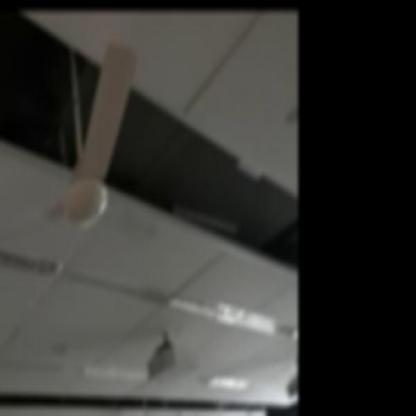light_off: (141, 266, 252, 333), (0, 204, 69, 294), (82, 350, 152, 396), (208, 367, 259, 398)
